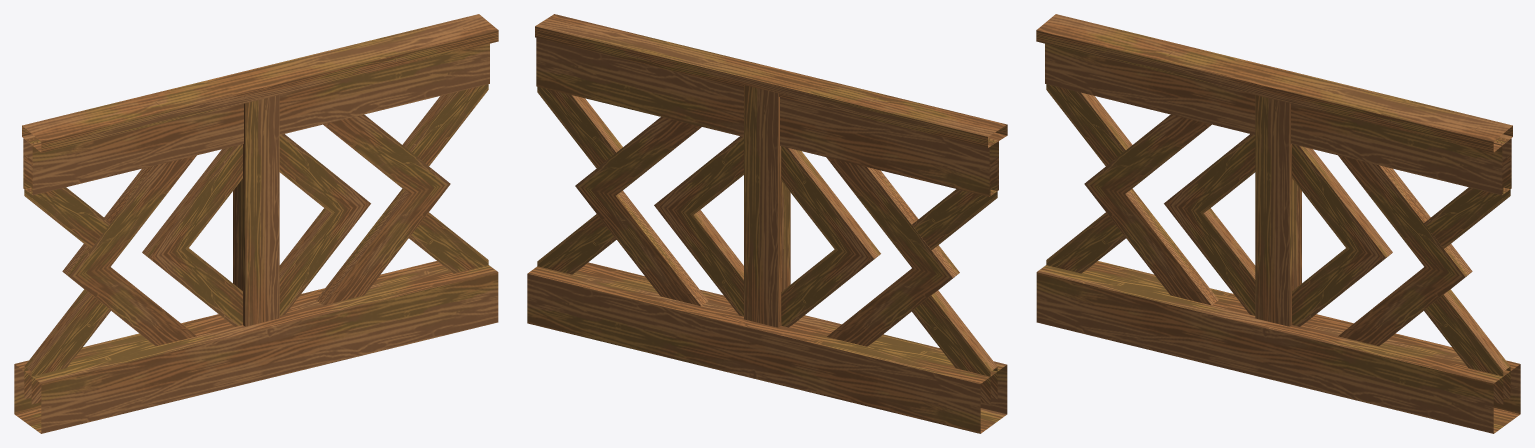
File: Balcony_Cross_Straight.gltf
3 renders of one model, left to right at view 1: azimuth 30°, elevation 25°; view 2: azimuth 150°, elevation 25°; view 3: azimuth 330°, elevation 25°, orthographic.
Visible parts, largest first — view 1: Balcony_Cross_Straight; view 2: Balcony_Cross_Straight; view 3: Balcony_Cross_Straight.
Part boxes in pixels (<box>): Balcony_Cross_Straight: <box>14,14,498,433</box>; Balcony_Cross_Straight: <box>527,14,1007,433</box>; Balcony_Cross_Straight: <box>1036,14,1520,433</box>.
Bounding box in the file's own units: 2 × 1.23 × 0.2063.
Materials: 1 (1 with a texture image).
